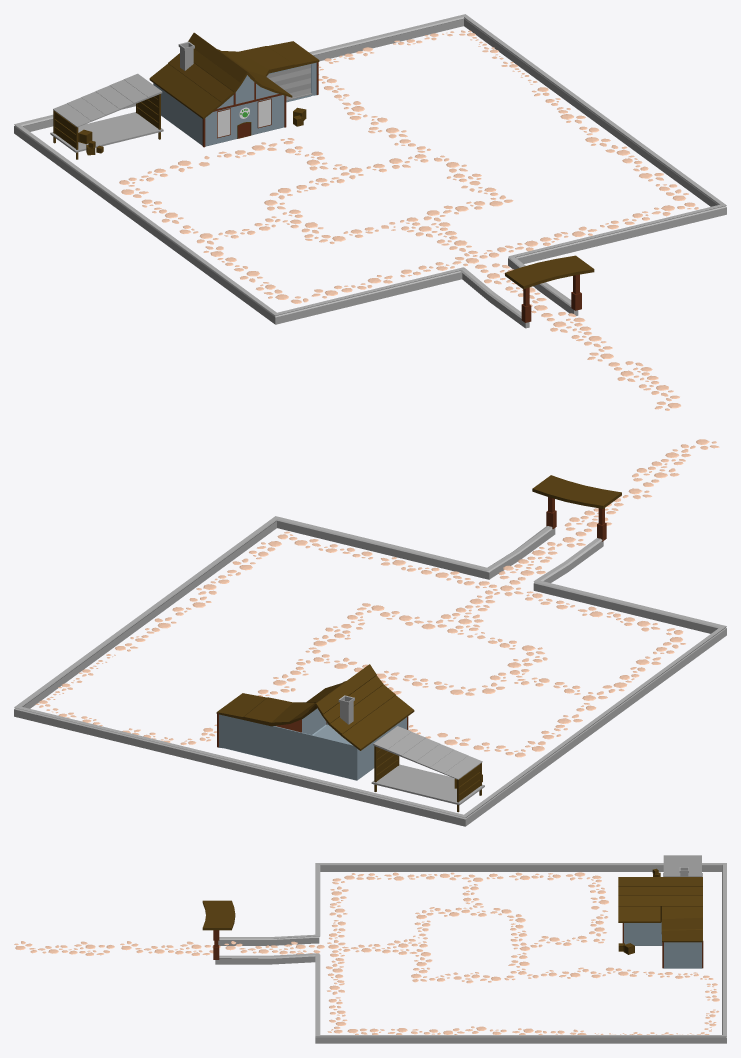
File: Main_Building_Level_1.fbx
The picture shows the model from 3 angles, top to bottom: view 1: azimuth 30°, elevation 25°; view 2: azimuth 150°, elevation 25°; view 3: azimuth 270°, elevation 25°; orthographic projection. The views are drawn at different scales.
Visible parts, largest first — view 1: Fence.001, Pad Level 1, Roof.002, Main_Building, Roof.003, Storage?, Ingang.001, Garage door; view 2: Fence.001, Pad Level 1, Roof.002, Main_Building, Roof.003, Storage?, Ingang.001; view 3: Fence.001, Pad Level 1, Roof.002, Main_Building, Ingang.001, Roof.003.
Part boxes in pixels (box(x1,y1,x2,y2)): Fence.001: box(14, 14, 726, 328); Pad Level 1: box(119, 30, 698, 410); Roof.002: box(149, 32, 319, 119); Main_Building: box(153, 62, 317, 146); Roof.003: box(53, 73, 162, 127); Storage?: box(50, 112, 163, 152); Ingang.001: box(505, 255, 594, 289); Garage door: box(266, 64, 312, 100); Fence.001: box(14, 516, 726, 826); Pad Level 1: box(35, 439, 719, 757); Roof.002: box(216, 664, 414, 750); Main_Building: box(218, 708, 406, 780); Roof.003: box(373, 726, 482, 779); Storage?: box(371, 764, 484, 805); Ingang.001: box(532, 475, 621, 508); Fence.001: box(215, 863, 726, 1043); Pad Level 1: box(14, 872, 719, 1034); Roof.002: box(618, 877, 702, 942); Main_Building: box(624, 922, 701, 968); Ingang.001: box(202, 900, 235, 930); Roof.003: box(663, 855, 701, 876).
Size of the model in its own units: 10251 by 1642 by 17804.
